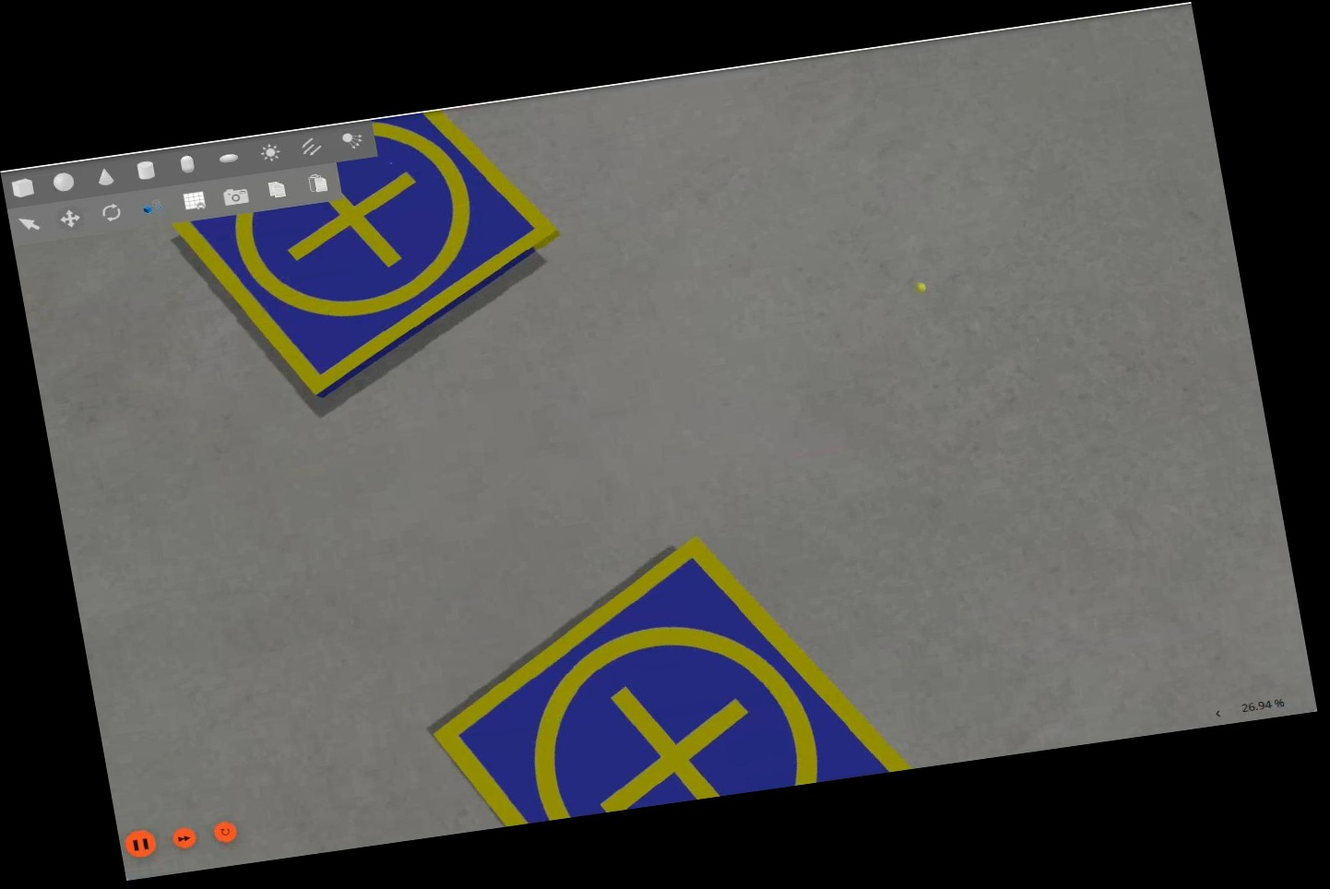small_base: (404, 508, 908, 836), (152, 94, 587, 416)
